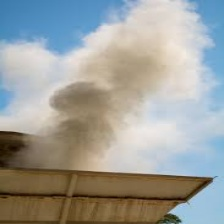smoke: (29, 17, 172, 171)
